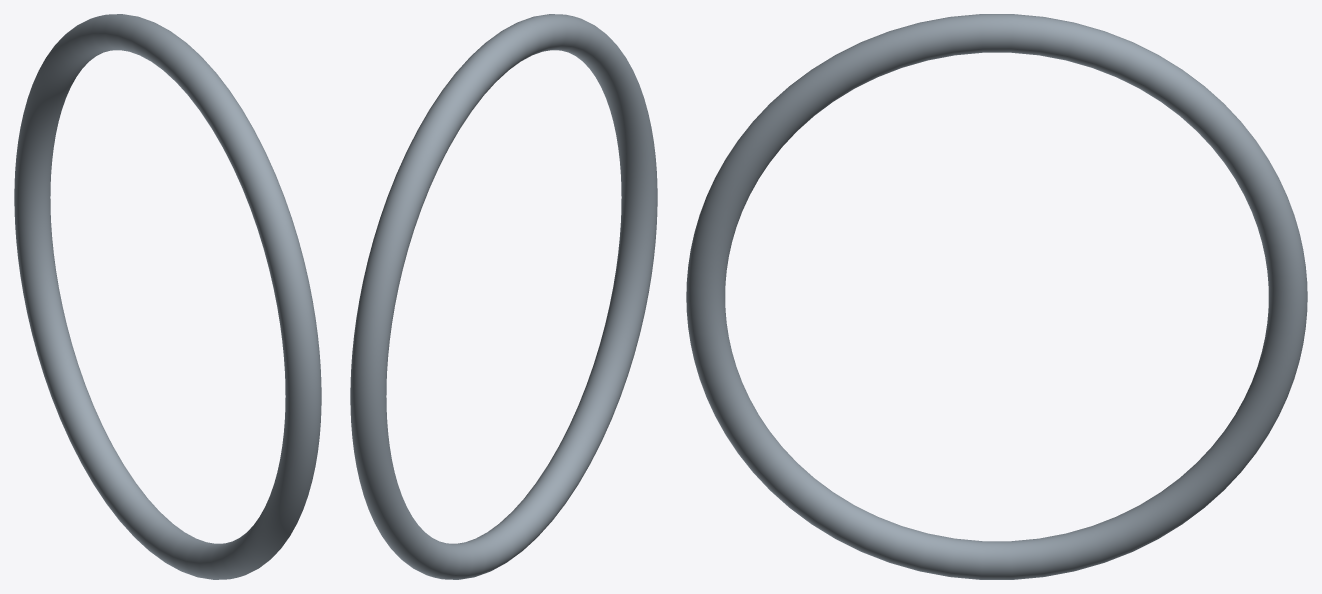
File: SmallRing.dae
The picture shows the model from 3 angles, left to right: view 1: azimuth 30°, elevation 25°; view 2: azimuth 150°, elevation 25°; view 3: azimuth 270°, elevation 25°; orthographic projection. The views are drawn at different scales.
Size of the model in its own units: 2 by 31.99 by 32.
